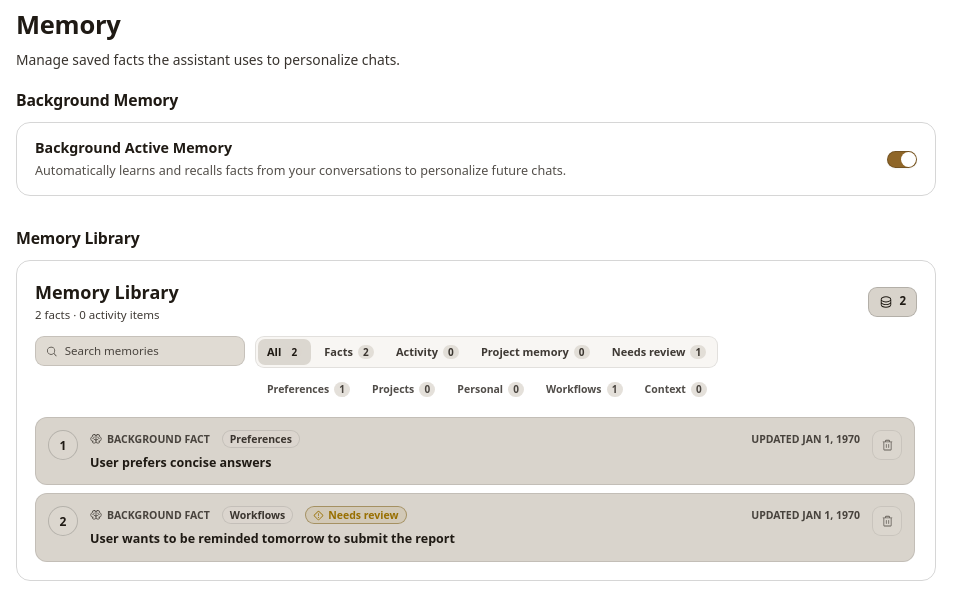
MemorySection › filters by category and needs review
expect the text "User prefers concise answers" is shown: met, box [90,454,272,471]
expect the text "User wants to be reminded tomorrow to submit the report" is shown: met, box [90,530,455,547]
Click the tab "Preferences 1": (309, 390) [258,377,359,402]
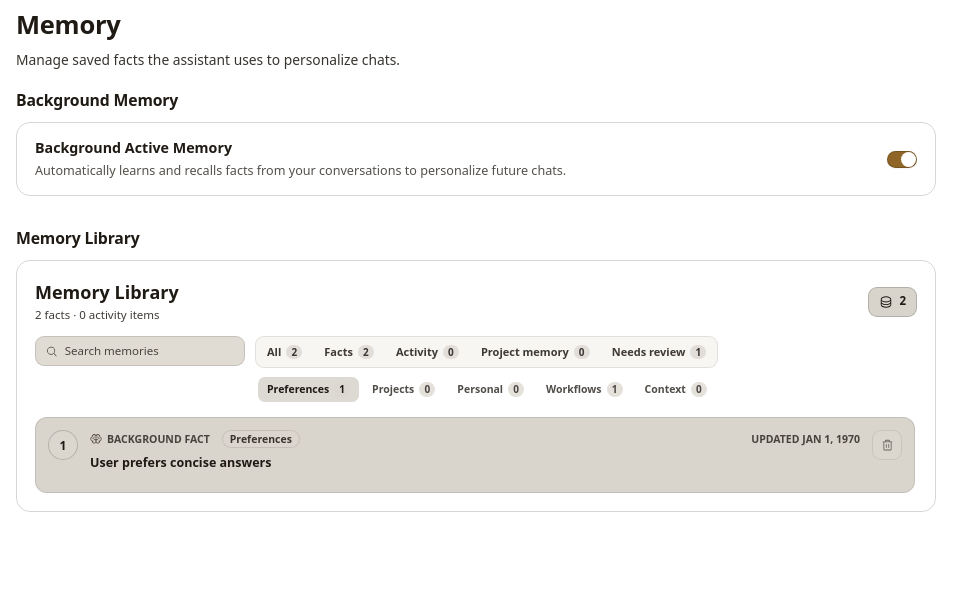
expect the text "User prefers concise answers" is shown: met, box [90,454,272,471]
expect the text "User wants to be reminded tomorrow to submit the report" is gone: met
Click the tab "Needs review 1": (659, 352) [603,339,715,365]
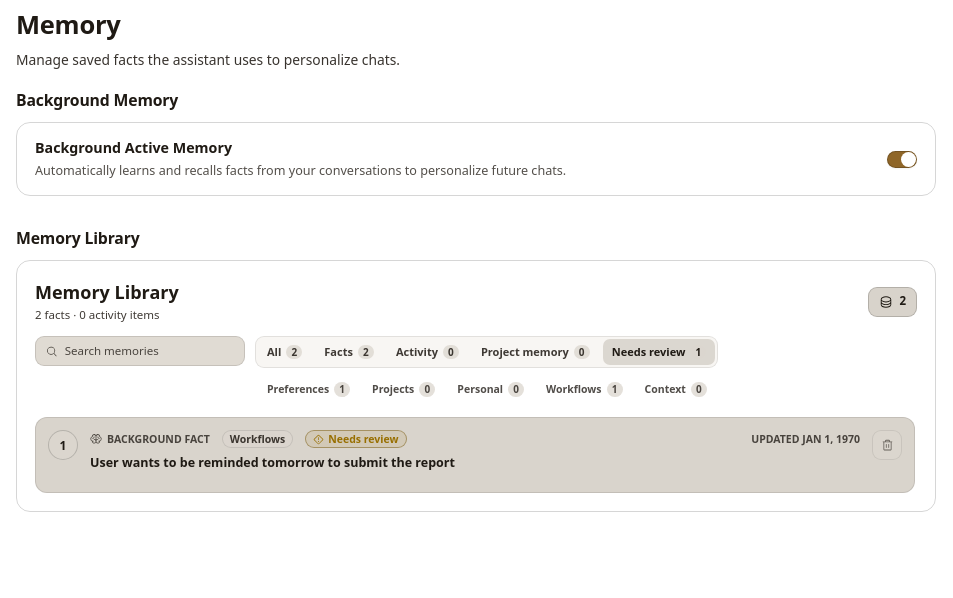
expect the text "User prefers concise answers" is gone: met
expect the text "User wants to be reminded tomorrow to submit the report" is shown: met, box [90,454,455,471]
